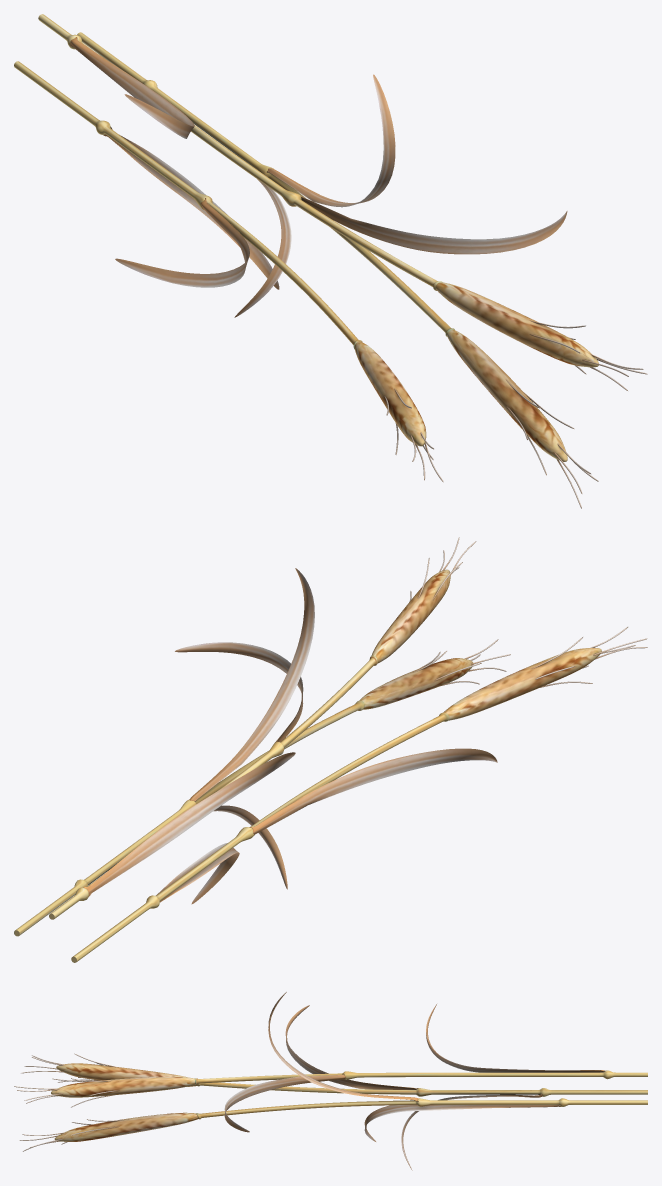
The model's file is WheatField.obj.
The picture shows the model from 3 angles, top to bottom: view 1: azimuth 30°, elevation 25°; view 2: azimuth 150°, elevation 25°; view 3: azimuth 270°, elevation 25°; orthographic projection. The views are drawn at different scales.
Parts seen in each view (by area): view 1: 10458_Wheat_Field_v1_SG; view 2: 10458_Wheat_Field_v1_SG; view 3: 10458_Wheat_Field_v1_SG.
Part boxes in pixels (x1,y1,x2,y2): 10458_Wheat_Field_v1_SG: (14,14,647,508); 10458_Wheat_Field_v1_SG: (14,537,647,962); 10458_Wheat_Field_v1_SG: (14,992,647,1170).
Size of the model in its own units: 29.8 by 20.8 by 67.39.
1 material, 1 textured.
